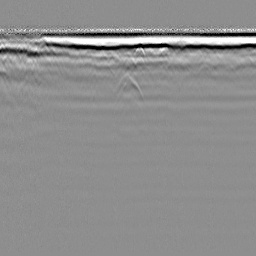cavity: (112, 72, 144, 99)
